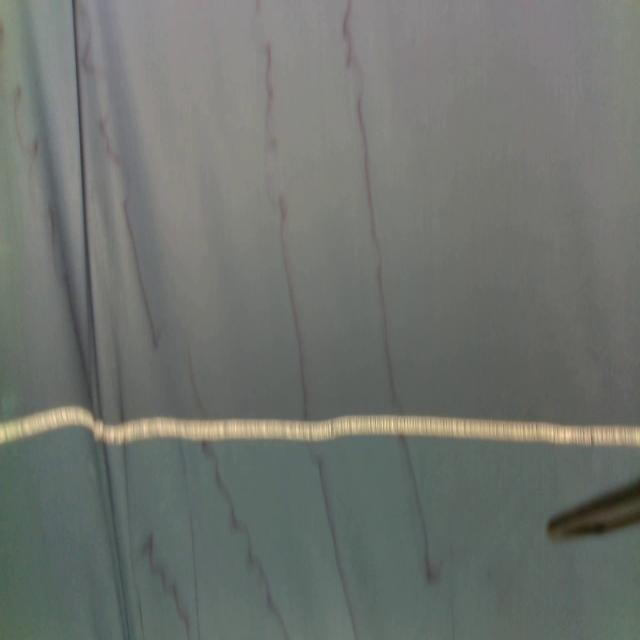crease: (71, 0, 103, 417), (104, 441, 130, 640), (189, 510, 201, 640)
